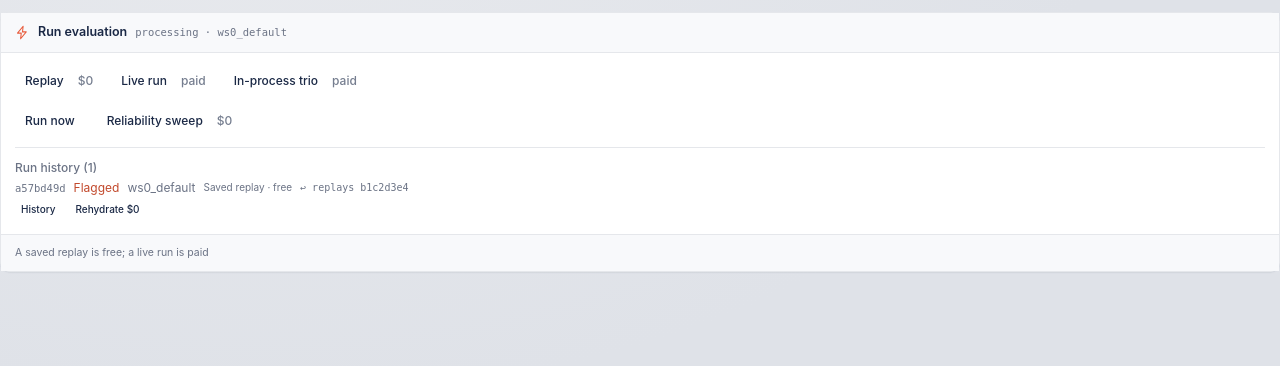
Test case: RunPanel (tool-run_panel) › a failed run shows a friendly reason + a Try again that re-runs
Step 1. Click the button "Run now" → [50, 121], box [15, 107, 85, 135]
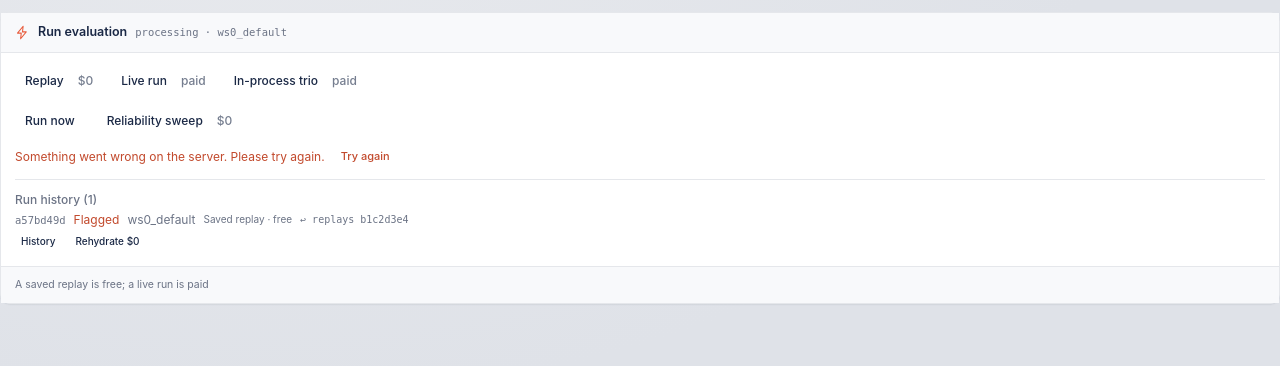
Expected: the message shows "Something went wrong on the server", [15, 149, 325, 164]
Step 2. Click the button "Try again" → [365, 157], box [333, 147, 398, 167]
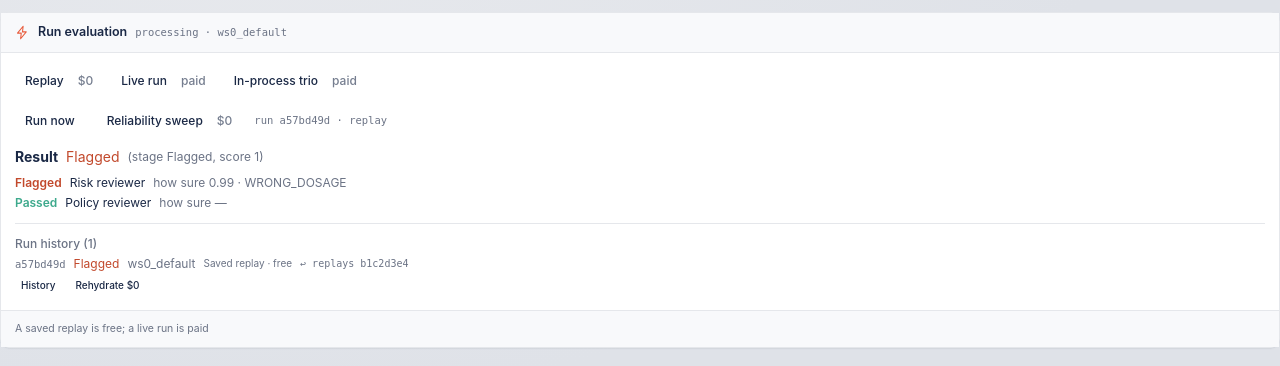
Expected: the text "Result" is shown, [15, 147, 58, 167]
